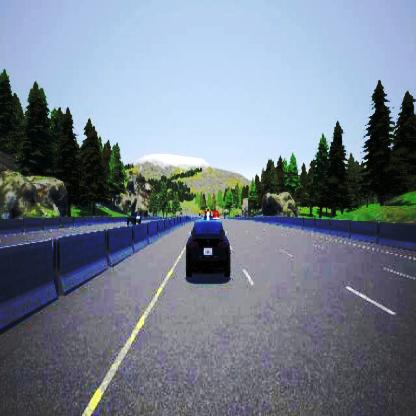vehicle: (186, 210, 230, 276)
